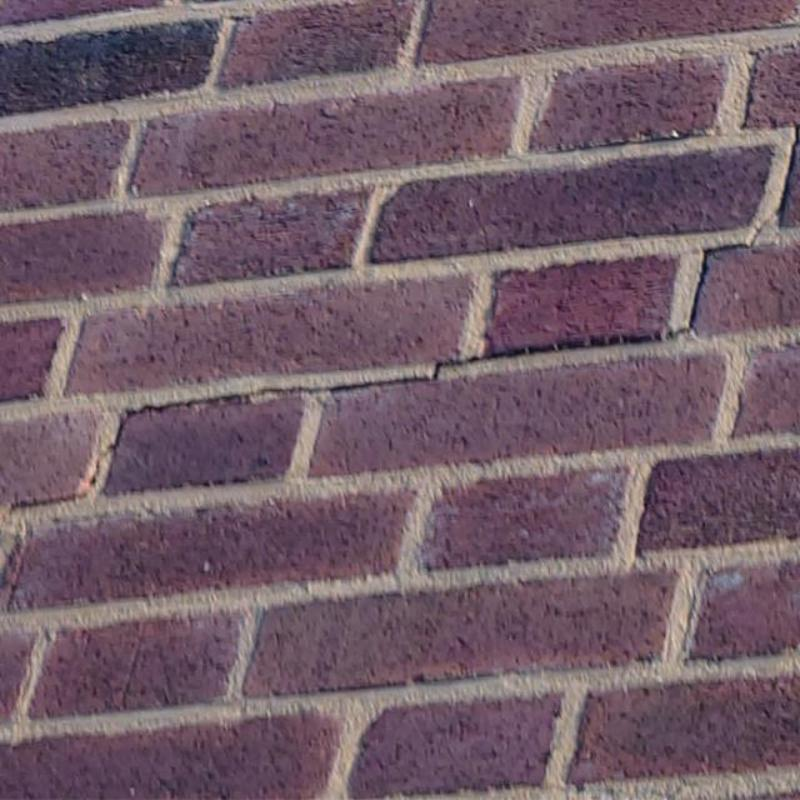pothole: (10, 244, 745, 510), (750, 124, 799, 249)
